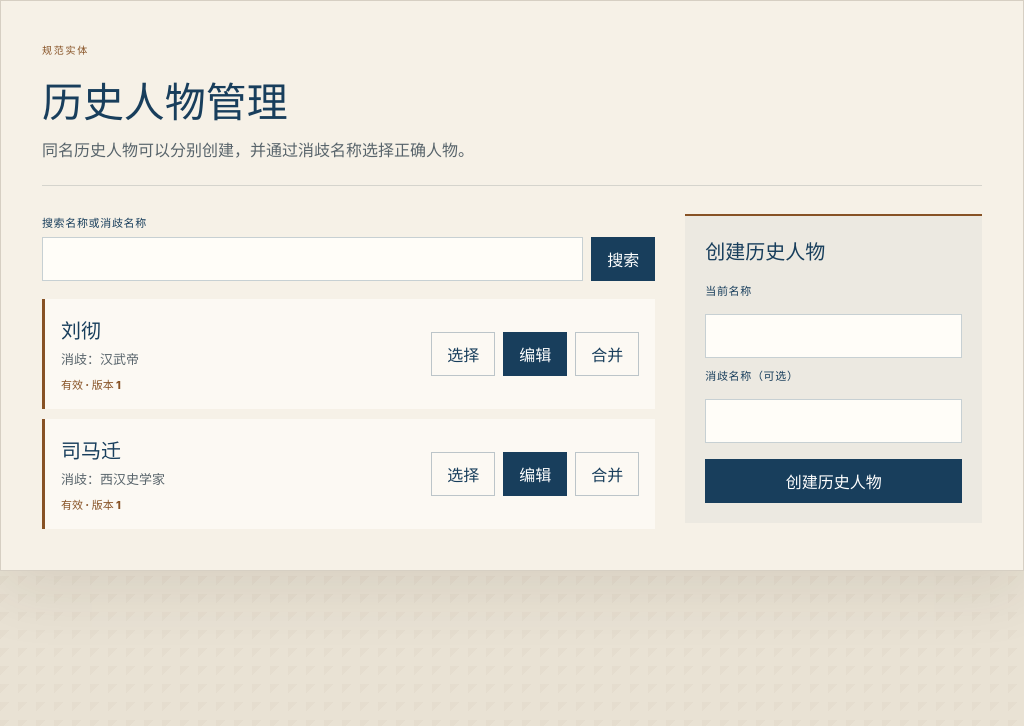
Test: 复用的规范实体管理交互 › 切换编辑目标时重新填充对应实体，避免把前一实体内容写入新目标
Click the button "编辑" in the row of "消歧：汉武帝": x=535, y=354 [503, 332, 567, 376]
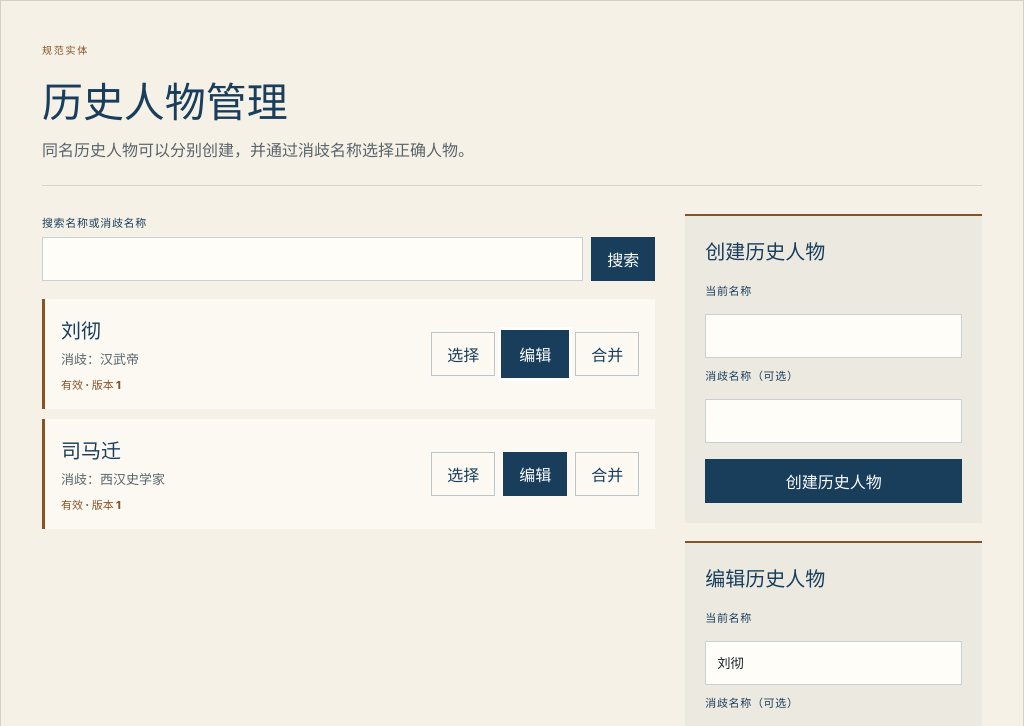
expect the 2nd field labelled "当前名称" holds "刘彻": met, box [705, 641, 962, 685]
Click the button "编辑" in the row of "消歧：西汉史学家": x=535, y=474 [503, 452, 567, 496]
(page scrolled)
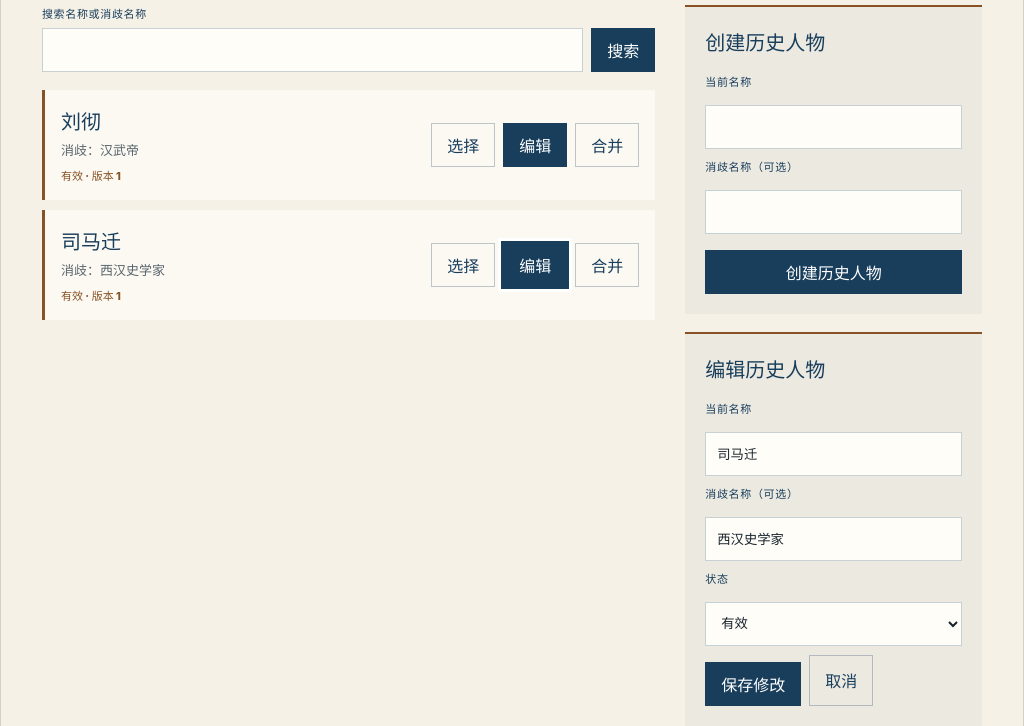
expect the 2nd field labelled "当前名称" holds "司马迁": met, box [705, 432, 962, 476]
expect the 2nd field labelled "消歧名称（可选）" holds "西汉史学家": met, box [705, 517, 962, 561]
